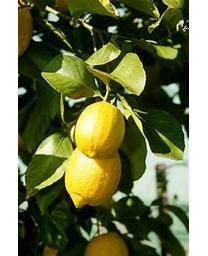lemon: (65, 147, 122, 208), (76, 103, 124, 160)
